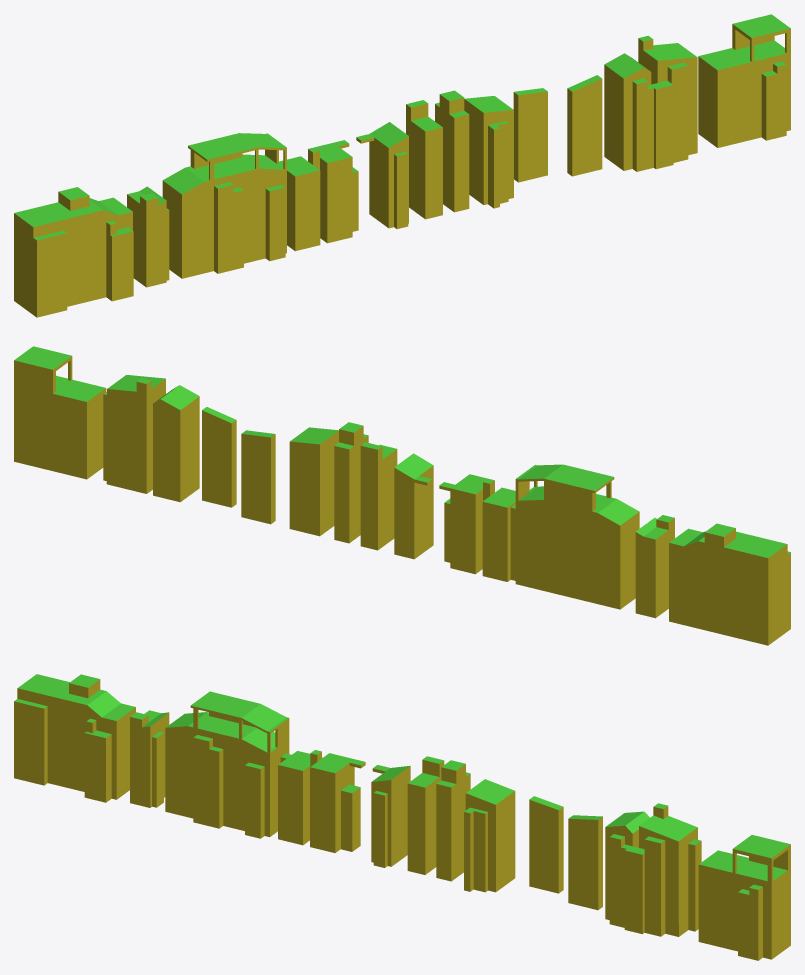
Rendered from GameProjectMap1.fbx.
3 views of the same model, one above another, from view 1: azimuth 30°, elevation 25°; view 2: azimuth 150°, elevation 25°; view 3: azimuth 330°, elevation 25° (orthographic).
Parts seen in each view (by area): view 1: Cube, Cube.003, Cube.021, Cube.009, Cube.022, Cube.011, Cube.019, Cube.015, Cube.012, Cube.002, Cube.013, Cube.014 (+7 smaller); view 2: Cube.003, Cube, Cube.021, Cube.009, Cube.020, Cube.019, Cube.013, Cube.011, Cube.002, Cube.015, Cube.012, Cube.014 (+1 smaller); view 3: Cube, Cube.003, Cube.021, Cube.009, Cube.022, Cube.020, Cube.013, Cube.012, Cube.011, Cube.015, Cube.014, Cube.001 (+10 smaller).
Boxes of the visible parts, bbox=[...] form: Cube: bbox=[14, 187, 133, 317]; Cube.003: bbox=[162, 133, 286, 278]; Cube.021: bbox=[698, 14, 790, 147]; Cube.009: bbox=[308, 122, 408, 243]; Cube.022: bbox=[632, 62, 688, 171]; Cube.011: bbox=[406, 100, 442, 219]; Cube.019: bbox=[604, 53, 651, 170]; Cube.015: bbox=[567, 75, 602, 176]; Cube.012: bbox=[435, 90, 469, 212]; Cube.002: bbox=[127, 186, 166, 287]; Cube.013: bbox=[464, 96, 513, 204]; Cube.014: bbox=[513, 88, 547, 182]; Cube.003: bbox=[515, 464, 639, 609]; Cube: bbox=[669, 523, 790, 645]; Cube.021: bbox=[14, 346, 106, 479]; Cube.009: bbox=[394, 453, 494, 574]; Cube.020: bbox=[106, 375, 165, 493]; Cube.019: bbox=[153, 385, 199, 502]; Cube.013: bbox=[289, 427, 338, 536]; Cube.011: bbox=[360, 442, 397, 550]; Cube.002: bbox=[635, 515, 674, 618]; Cube.015: bbox=[202, 407, 236, 507]; Cube.012: bbox=[334, 422, 368, 543]; Cube.014: bbox=[241, 430, 275, 524]; Cube: bbox=[14, 674, 135, 802]; Cube.003: bbox=[165, 691, 289, 837]; Cube.021: bbox=[698, 835, 790, 959]; Cube.009: bbox=[310, 753, 410, 866]; Cube.022: bbox=[609, 834, 665, 936]; Cube.020: bbox=[639, 803, 697, 936]; Cube.013: bbox=[465, 779, 515, 892]; Cube.012: bbox=[436, 760, 470, 881]; Cube.011: bbox=[407, 756, 444, 874]; Cube.015: bbox=[568, 815, 602, 910]; Cube.014: bbox=[529, 796, 563, 893]; Cube.001: bbox=[278, 751, 322, 845].
Bounding box in the file's own units: 18039 × 2569 × 1057.
